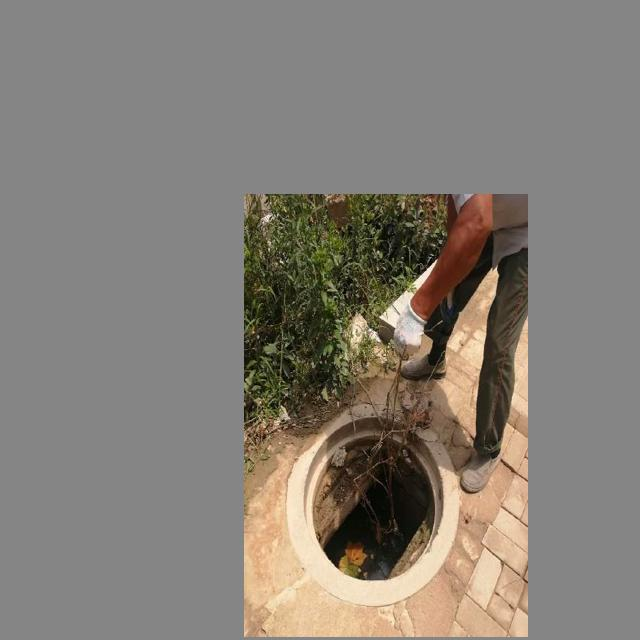lose: (287, 404, 459, 604)
